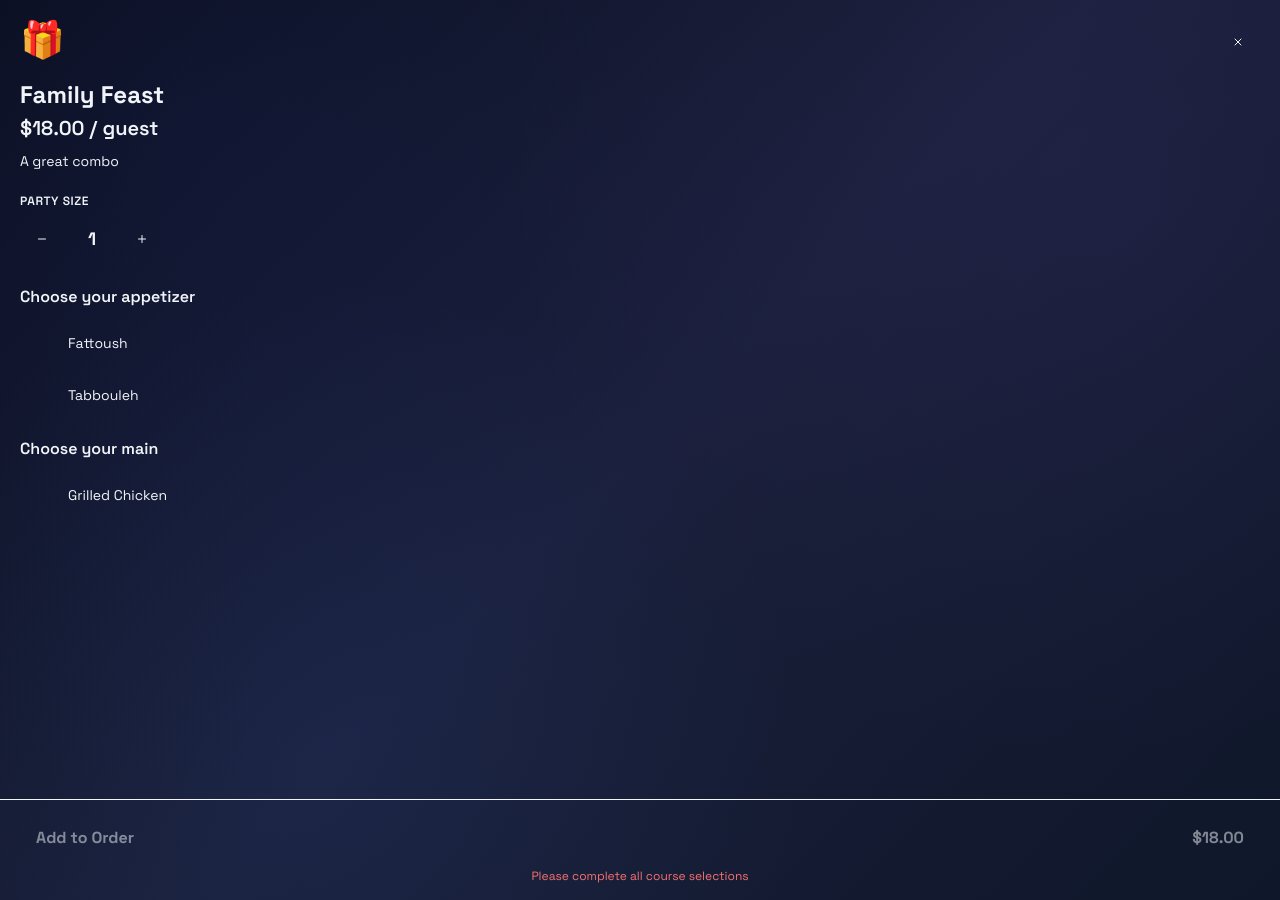
Scenario: QRBundleDetail › Confirm is disabled until every course has a selection, enabling once the last one is filled
Expected: the button "Add to Order $18.00" is disabled, left=20, top=816, right=1260, bottom=860
Click the button "Fattoush": (98, 343) left=20, top=321, right=1260, bottom=365
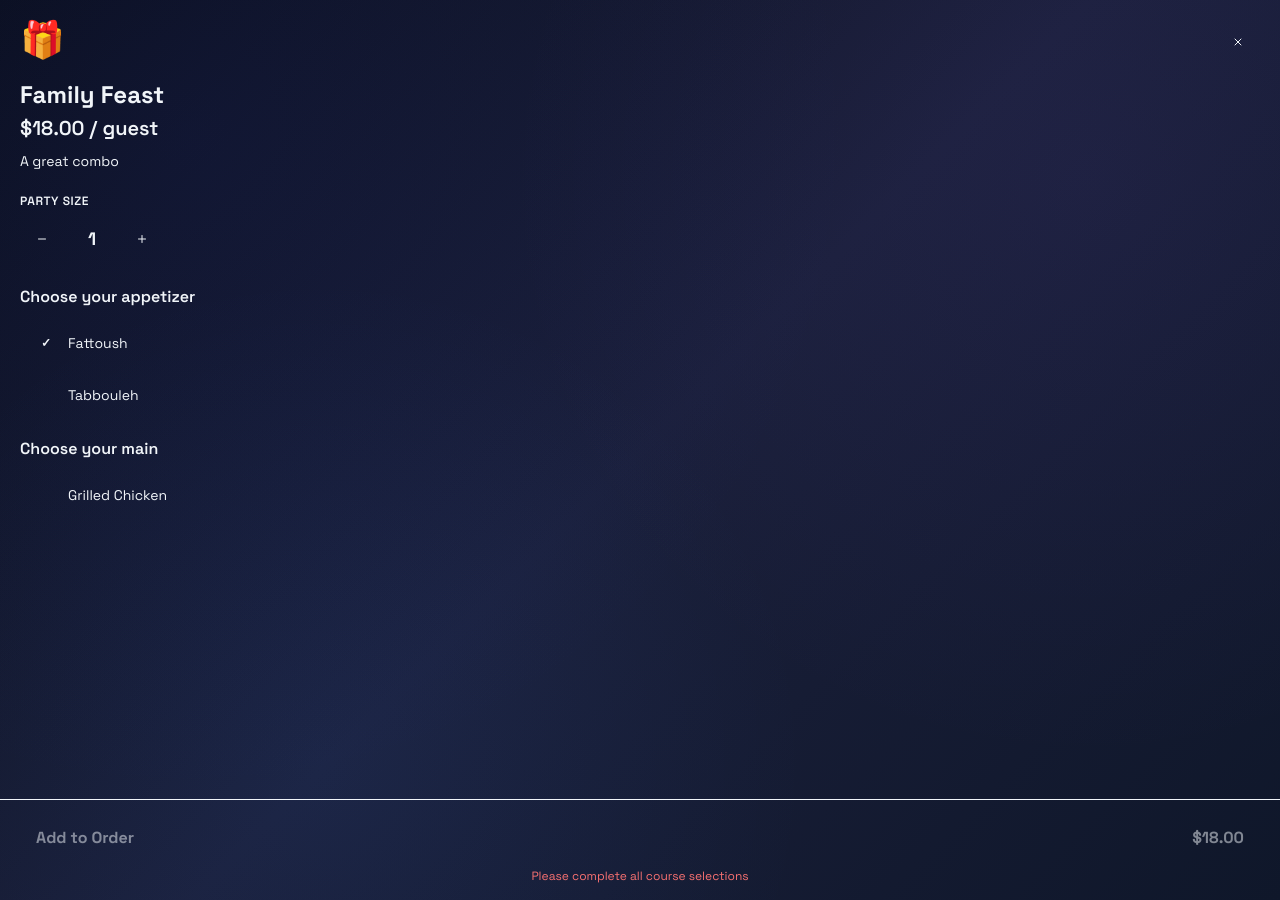
Expected: the button "Add to Order $18.00" is disabled, left=20, top=816, right=1260, bottom=860
Click the button "Grilled Chicken": (118, 495) left=20, top=473, right=1260, bottom=517
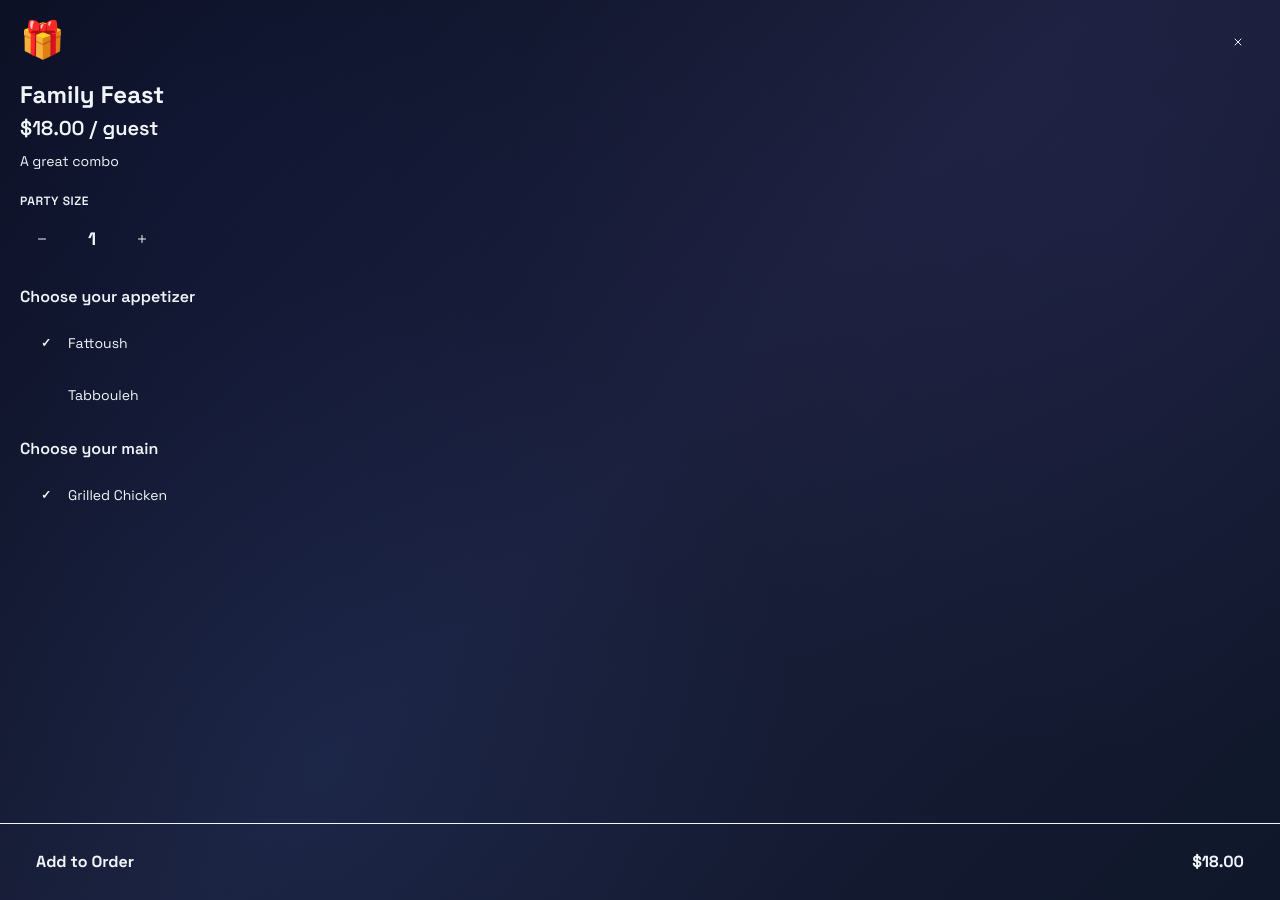
Expected: the button "Add to Order $18.00" is enabled, left=20, top=840, right=1260, bottom=884
